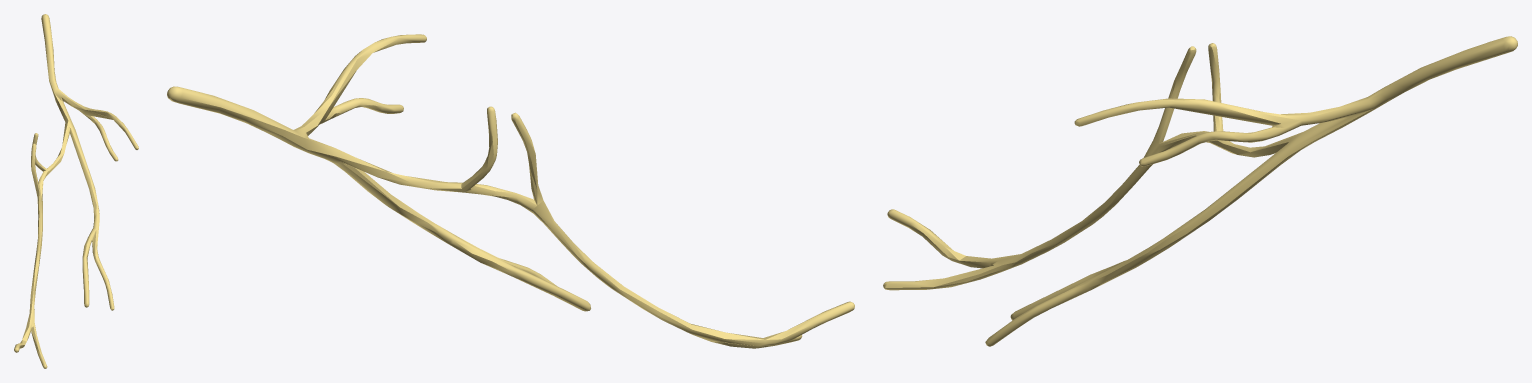
File: fma52576_fj1344.glb
3 views of the same model, side by side, from view 1: azimuth 30°, elevation 25°; view 2: azimuth 150°, elevation 25°; view 3: azimuth 270°, elevation 25° (orthographic). The views are drawn at different scales.
Visible parts, largest first — view 1: FMA52576_FJ1344; view 2: FMA52576_FJ1344; view 3: FMA52576_FJ1344.
Boxes of the visible parts, x1=… form: FMA52576_FJ1344: x1=14, y1=14, x2=138, y2=368; FMA52576_FJ1344: x1=167, y1=34, x2=854, y2=348; FMA52576_FJ1344: x1=883, y1=36, x2=1517, y2=346.
Size of the model in its own units: 0.0246 by 0.0252 by 0.0359.
